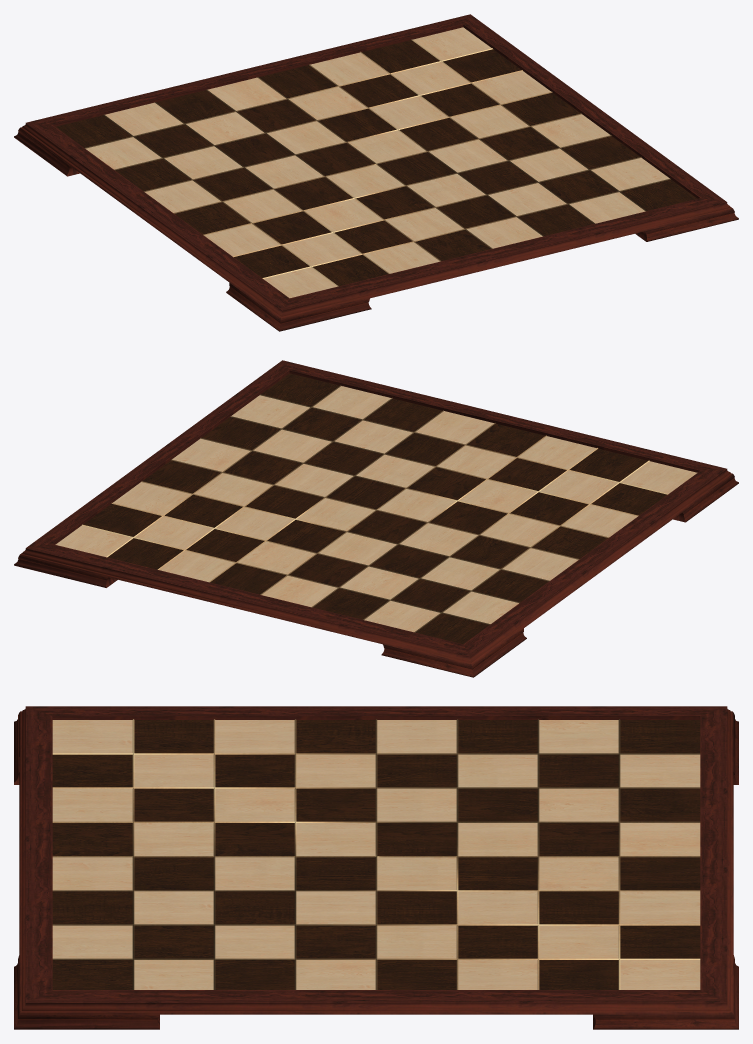
3 views of the same model, one above another, from view 1: azimuth 30°, elevation 25°; view 2: azimuth 150°, elevation 25°; view 3: azimuth 270°, elevation 25° (orthographic). The views are drawn at different scales.
Visible parts, largest first — view 1: Object032_01 - Default_0, Object033_01 - Default_0, Object030_01 - Default_0, Plane001; view 2: Object033_01 - Default_0, Object032_01 - Default_0, Object030_01 - Default_0, Plane001; view 3: Object032_01 - Default_0, Object033_01 - Default_0, Object030_01 - Default_0, Plane001.
Part boxes in pixels (x1,y1,x2,y2): Object032_01 - Default_0: (55, 40, 697, 286); Object033_01 - Default_0: (85, 27, 669, 298); Object030_01 - Default_0: (14, 14, 738, 331); Plane001: (84, 39, 670, 286); Object033_01 - Default_0: (55, 386, 697, 632); Object032_01 - Default_0: (83, 373, 667, 644); Object030_01 - Default_0: (14, 360, 738, 677); Plane001: (82, 385, 668, 632); Object032_01 - Default_0: (52, 720, 700, 989); Object033_01 - Default_0: (52, 720, 700, 989); Object030_01 - Default_0: (14, 706, 738, 1029); Plane001: (52, 719, 700, 989).
Size of the model in its own units: 0.2238 by 0.00796 by 0.2238.
2 materials, 2 textured.
